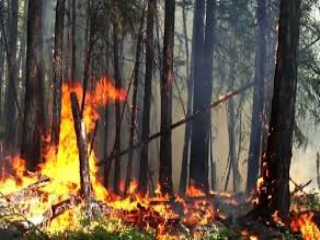fire: (28, 78, 135, 208)
